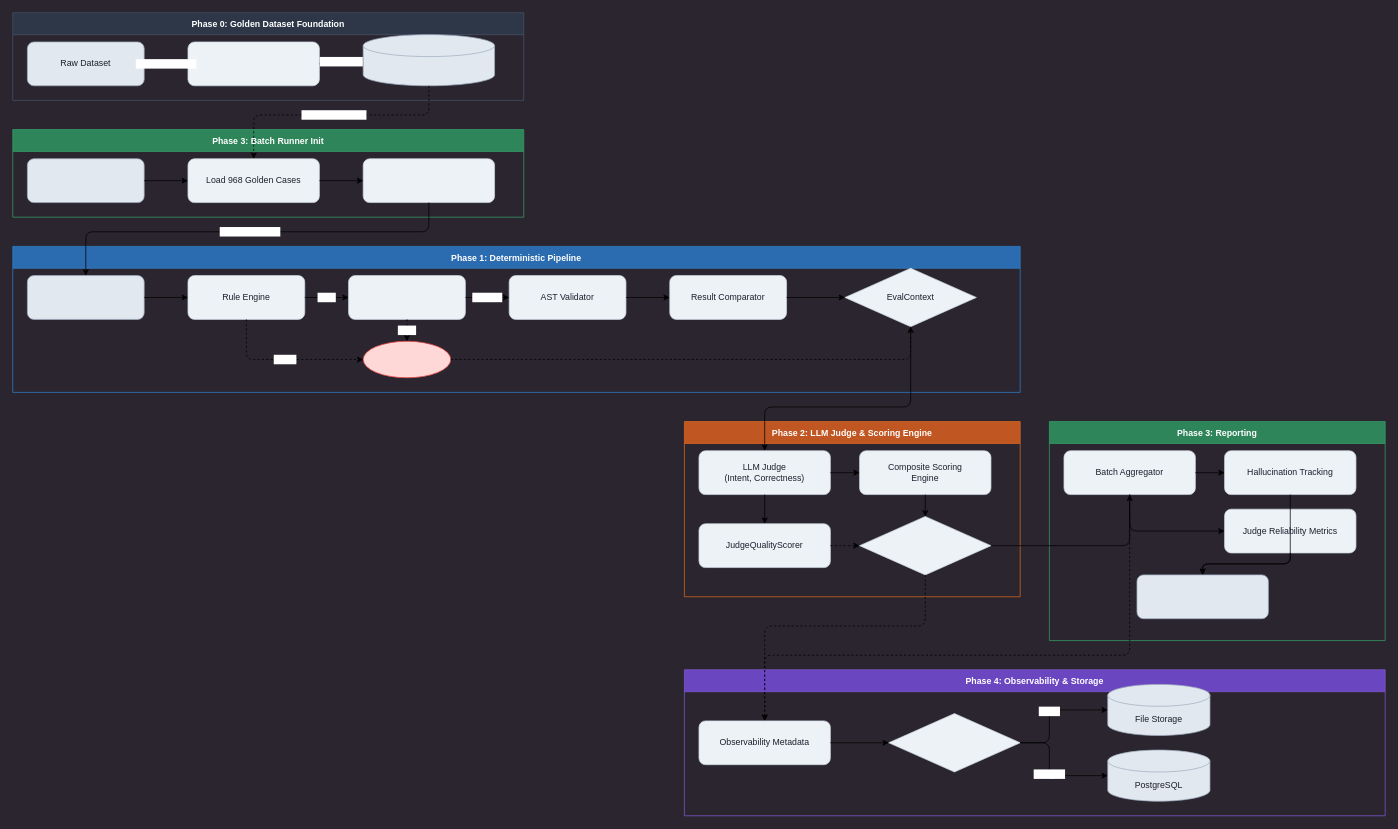
Some shapes in this 1398 by 829 pixel diagram are drawn without their labels. The centre of each missing label's shape, as x and y in pixels:
4-State Decision: pixel 925 545
Batch Eval Run: pixel 85 180
Early Reject: pixel 406 359
Execution Validator (DuckDB): pixel 406 297
Golden Dataset Store: pixel 428 60
Parallel Async Runner: pixel 428 180
ResultStore Protocol: pixel 954 742
Single Candidate SQL: pixel 85 297
Terminal Report: pixel 1202 596
Validate Schema & Buckets: pixel 253 63
